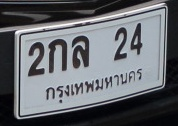num2: (27, 40, 46, 78)
txt01: (47, 37, 68, 75)
txt31: (71, 34, 90, 71)
